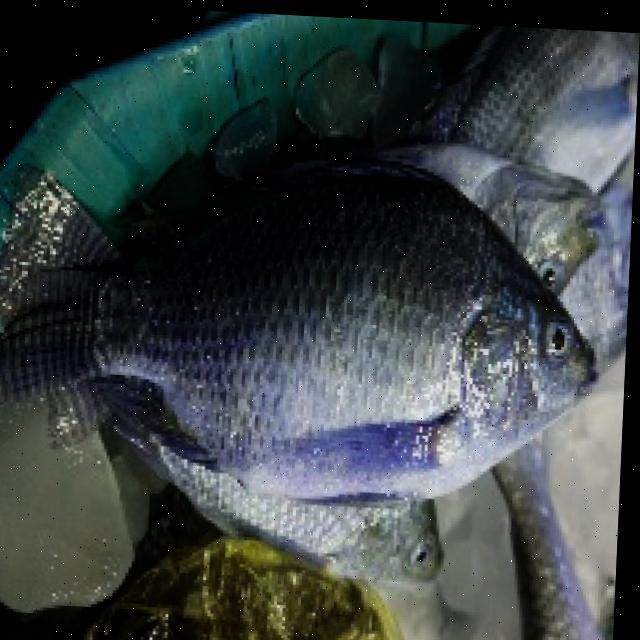Fresh: (59, 172, 612, 534)
